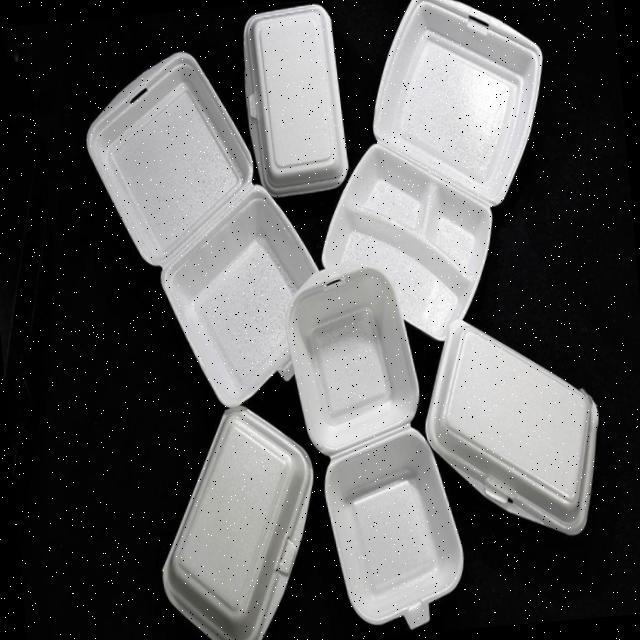styrofoam: (74, 0, 614, 640), (77, 39, 330, 418), (297, 0, 567, 350), (414, 306, 608, 548), (146, 397, 327, 640)
